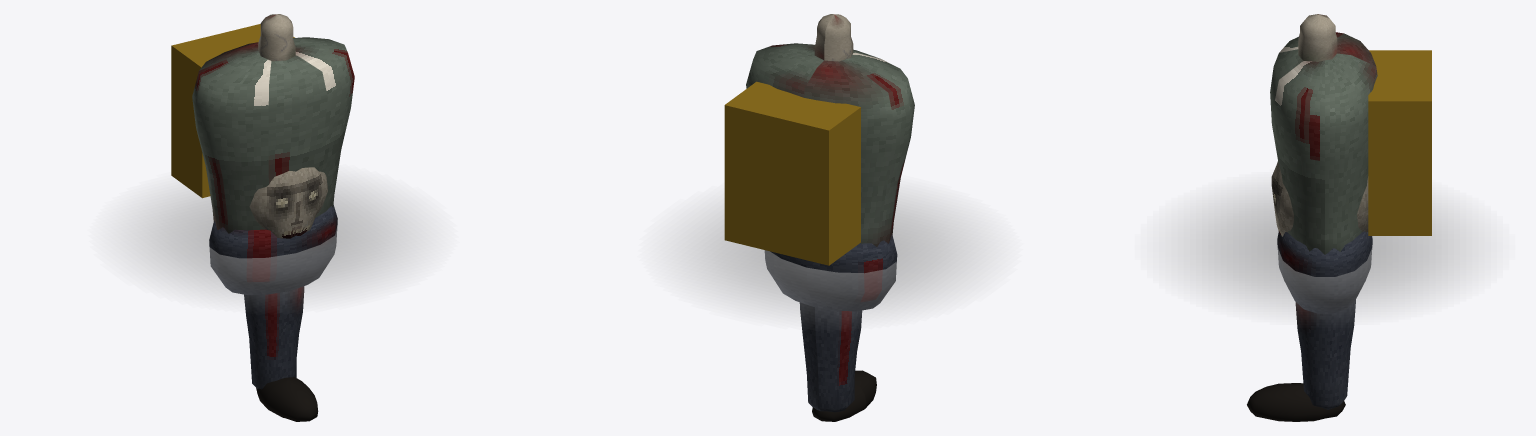
3 renders of one model, left to right at view 1: azimuth 30°, elevation 25°; view 2: azimuth 150°, elevation 25°; view 3: azimuth 270°, elevation 25°, orthographic. The views are drawn at different scales.
Visible parts, largest first — view 1: root__x__11, spine__x__1, core__x__0, spine__x__3, legL1__x__12, head__h__4, legL2__x__14, spine__x__2; view 2: root__x__11, spine__x__3, spine__x__1, core__x__0, legL1__x__12, spine__x__2, legL2__x__14; view 3: root__x__11, spine__x__1, spine__x__3, core__x__0, legL1__x__12, legL2__x__14, spine__x__2, head__h__4.
Part boxes in pixels (box(x1,y1,x2,y2)): root__x__11: box(114, 175, 432, 303); spine__x__1: box(192, 37, 354, 233); core__x__0: box(209, 205, 337, 295); spine__x__3: box(171, 24, 294, 198); legL1__x__12: box(244, 286, 304, 389); head__h__4: box(249, 167, 327, 238); legL2__x__14: box(256, 377, 318, 421); spine__x__2: box(258, 14, 295, 61); root__x__11: box(665, 187, 995, 319); spine__x__3: box(724, 81, 860, 265); spine__x__1: box(746, 43, 914, 246); core__x__0: box(764, 234, 897, 311); legL1__x__12: box(799, 302, 862, 412); spine__x__2: box(814, 14, 853, 61); legL2__x__14: box(812, 370, 876, 421); root__x__11: box(1159, 182, 1490, 316); spine__x__1: box(1270, 32, 1377, 254); spine__x__3: box(1368, 50, 1431, 235); core__x__0: box(1277, 231, 1372, 313); legL1__x__12: box(1295, 300, 1355, 409); legL2__x__14: box(1247, 383, 1345, 421); spine__x__2: box(1298, 14, 1337, 61); head__h__4: box(1271, 161, 1368, 236).
Bounding box in the file's own units: 1.16 × 1.3 × 1.16.
7 materials, 5 textured.
